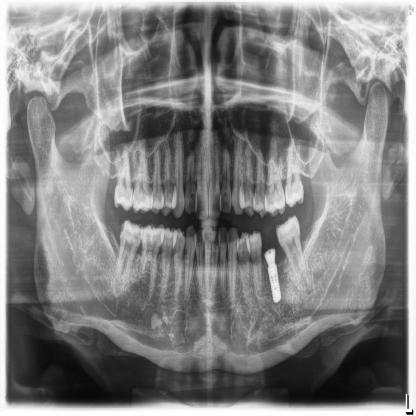ITI: (267, 265, 282, 302)
